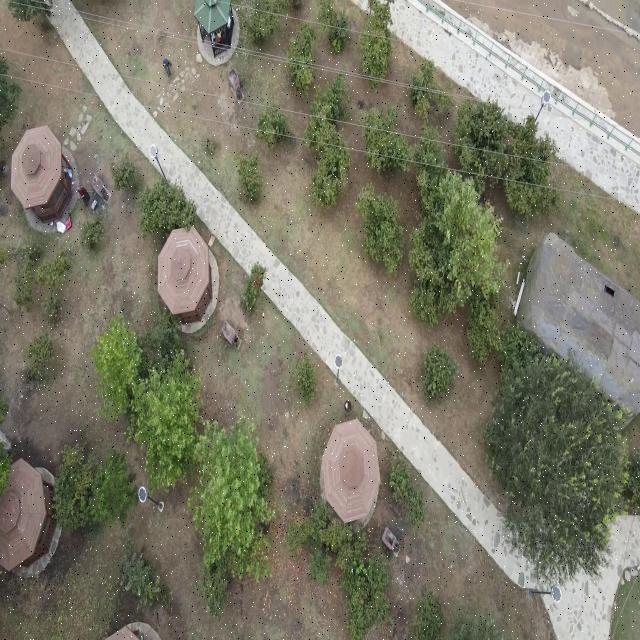people: (78, 186, 90, 206), (163, 58, 172, 78), (216, 29, 221, 42)
